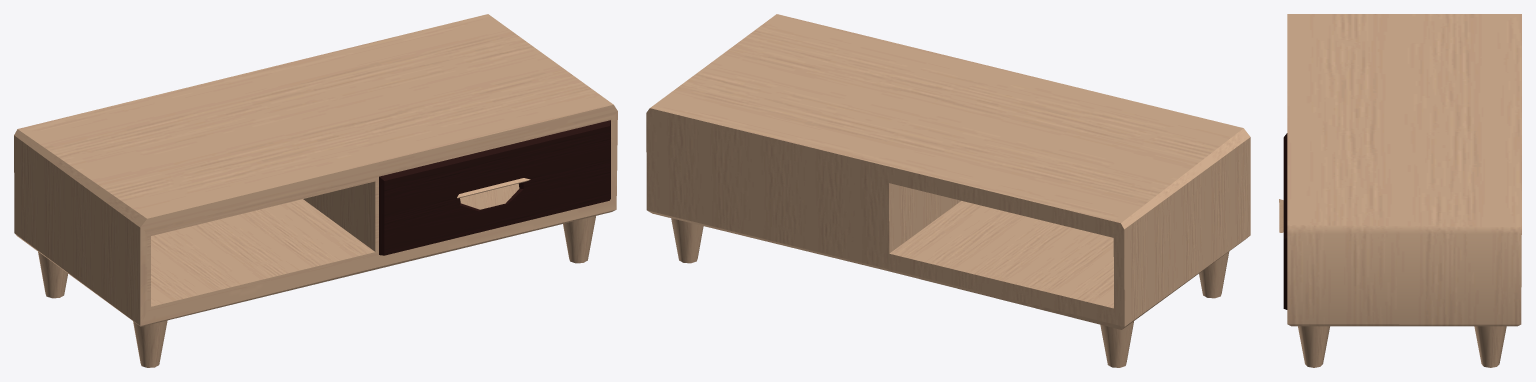
The model's file is Coffee_Table_10.FBX.
The picture shows the model from 3 angles, left to right: view 1: azimuth 30°, elevation 25°; view 2: azimuth 150°, elevation 25°; view 3: azimuth 270°, elevation 25°; orthographic projection. The views are drawn at different scales.
Visible parts, largest first — view 1: Coffee_table; view 2: Coffee_table; view 3: Coffee_table.
Part boxes in pixels (<box>): Coffee_table: <box>14,14,617,367</box>; Coffee_table: <box>646,14,1250,367</box>; Coffee_table: <box>1279,14,1521,367</box>.
Size of the model in its own units: 283 by 90.71 by 134.
